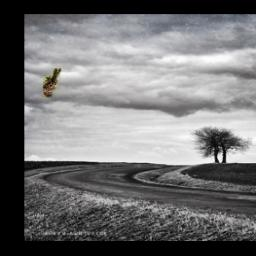Sparrow: (42, 69, 60, 98)
